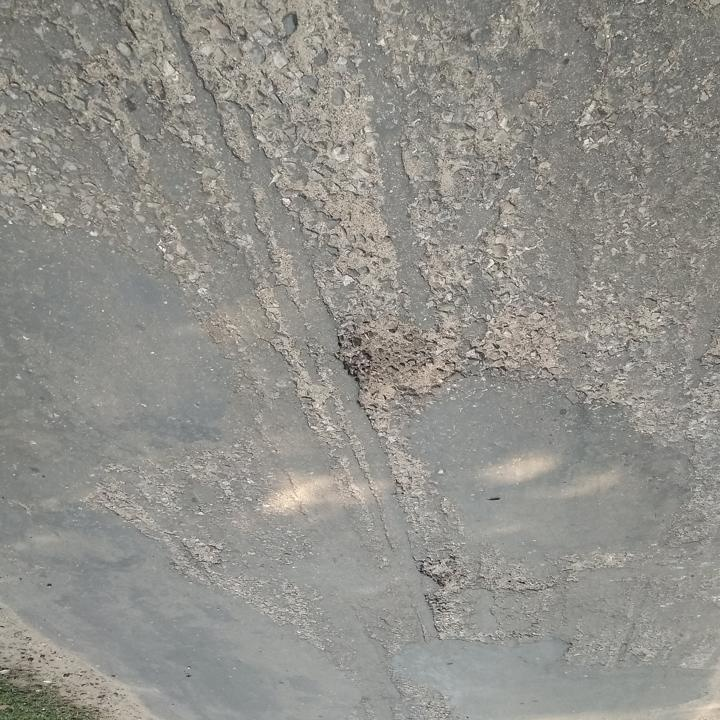pothole: (332, 318, 463, 405), (417, 551, 461, 589)
